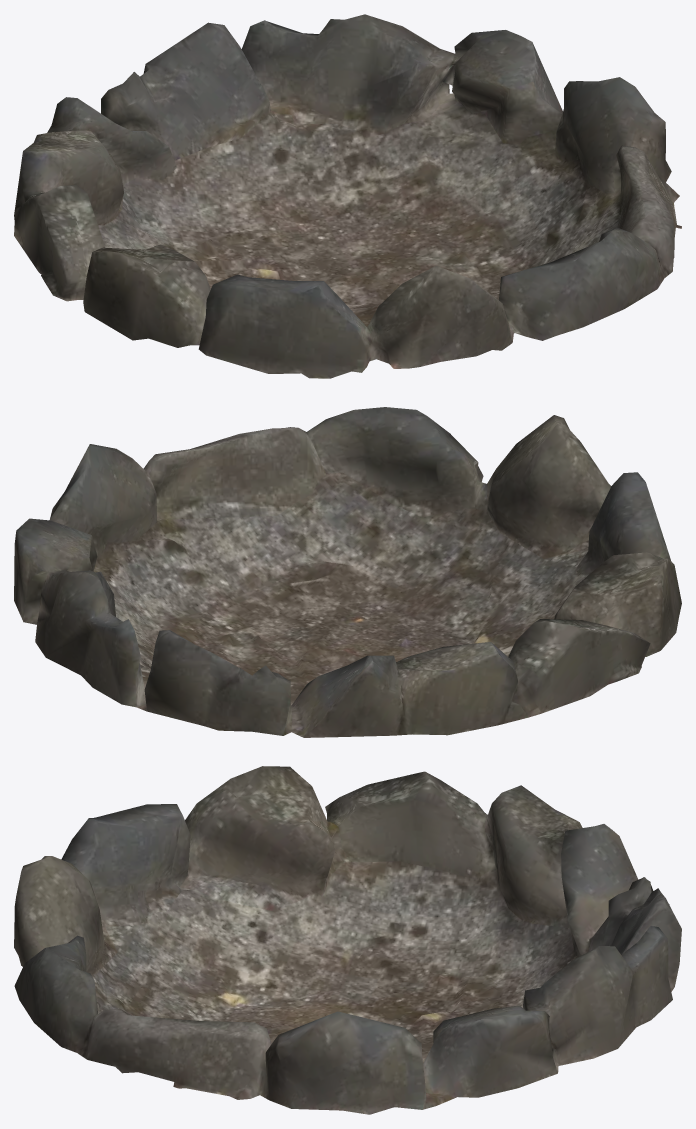
The model's file is scene-firepit.glb.
3 renders of one model, top to bottom at view 1: azimuth 30°, elevation 25°; view 2: azimuth 150°, elevation 25°; view 3: azimuth 270°, elevation 25°, orthographic.
Visible parts, largest first — view 1: stone_fire_pit; view 2: stone_fire_pit; view 3: stone_fire_pit.
Boxes of the visible parts, x1,y1,x2,y2 form: stone_fire_pit: (14,14,681,378); stone_fire_pit: (14,407,681,737); stone_fire_pit: (14,766,681,1114).
Bounding box in the file's own units: 1.45 × 0.3883 × 1.43.
Materials: 1 (1 with a texture image).
